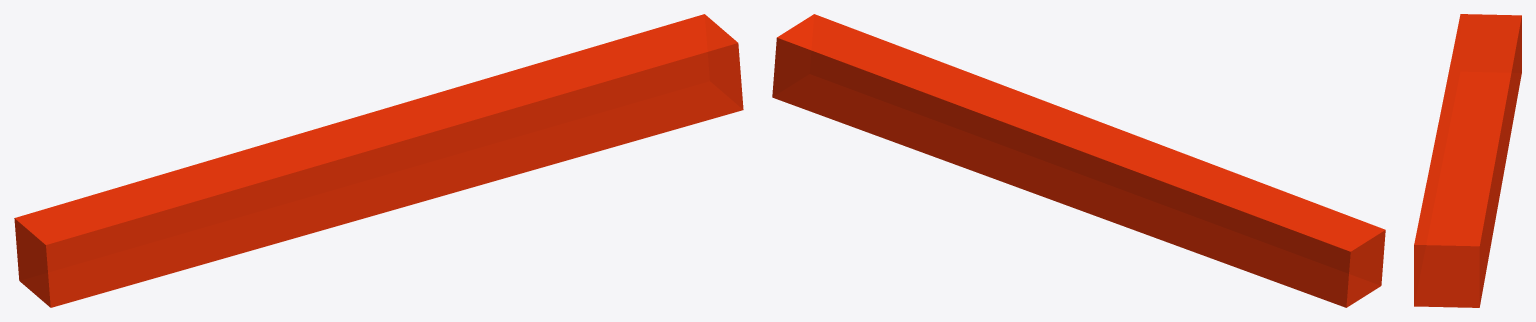
Rendered from Event_421115418_EErechit_80.fbx.
The picture shows the model from 3 angles, left to right: view 1: azimuth 30°, elevation 25°; view 2: azimuth 150°, elevation 25°; view 3: azimuth 270°, elevation 25°; orthographic projection. The views are drawn at different scales.
Parts seen in each view (by area): view 1: Model; view 2: Model; view 3: Model.
Part boxes in pixels (x1=…): Model: x1=14, y1=14, x2=743, y2=307; Model: x1=772, y1=14, x2=1385, y2=307; Model: x1=1414, y1=14, x2=1521, y2=307.
Size of the model in its own units: 0.7988 by 0.1398 by 0.1272.
